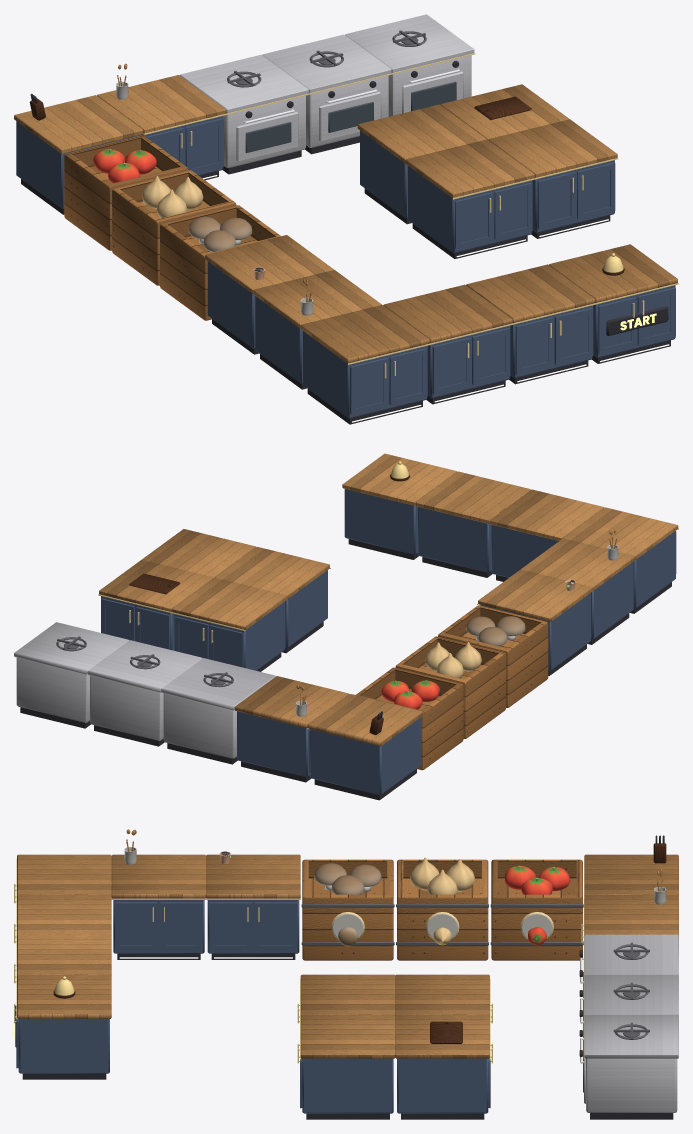
Rendered from kr_layA_st.glb.
3 renders of one model, top to bottom at view 1: azimuth 30°, elevation 25°; view 2: azimuth 150°, elevation 25°; view 3: azimuth 270°, elevation 25°, orthographic. The views are drawn at different scales.
Parts seen in each view (by area): view 1: vc_m0_r4, kr_layA_st_butcher, kr_layA_st_steel, kr_layA_st_planks, vc_m8_r2, vc_m0_r2, vc_m8_r4, kr_layA_st_darkwood, kr_layA_st_warmglow; view 2: vc_m0_r4, kr_layA_st_butcher, kr_layA_st_steel, kr_layA_st_planks, vc_m0_r2, vc_m8_r4, kr_layA_st_darkwood, vc_m8_r2; view 3: kr_layA_st_butcher, vc_m0_r4, kr_layA_st_planks, kr_layA_st_steel, vc_m0_r2, vc_m8_r4, vc_m8_r2, kr_layA_st_darkwood.
Part boxes in pixels (box(x1,y1,x2,y2)): vc_m0_r4: box(16, 60, 675, 424); kr_layA_st_butcher: box(14, 63, 677, 363); kr_layA_st_steel: box(179, 14, 474, 167); kr_layA_st_planks: box(64, 135, 280, 320); vc_m8_r2: box(143, 53, 678, 378); vc_m0_r2: box(93, 149, 203, 218); vc_m8_r4: box(227, 30, 426, 280); kr_layA_st_darkwood: box(29, 96, 624, 275); kr_layA_st_warmglow: box(203, 175, 669, 422); vc_m0_r4: box(20, 489, 676, 800); kr_layA_st_butcher: box(99, 453, 678, 746); kr_layA_st_steel: box(14, 622, 275, 758); kr_layA_st_planks: box(356, 605, 548, 770); vc_m0_r2: box(381, 642, 481, 709); vc_m8_r4: box(56, 579, 575, 687); kr_layA_st_darkwood: box(129, 474, 409, 735); vc_m8_r2: box(98, 461, 678, 729); kr_layA_st_butcher: box(17, 829, 678, 1058); vc_m0_r4: box(15, 835, 673, 1119); kr_layA_st_planks: box(302, 859, 582, 960); kr_layA_st_steel: box(584, 934, 678, 1112); vc_m0_r2: box(410, 857, 570, 945); vc_m8_r4: box(219, 851, 649, 1039); vc_m8_r2: box(14, 858, 584, 1092); kr_layA_st_darkwood: box(53, 843, 666, 1043).
Size of the model in its own units: 6 by 1.4 by 8.44.
Materials: 12 (4 with a texture image).
